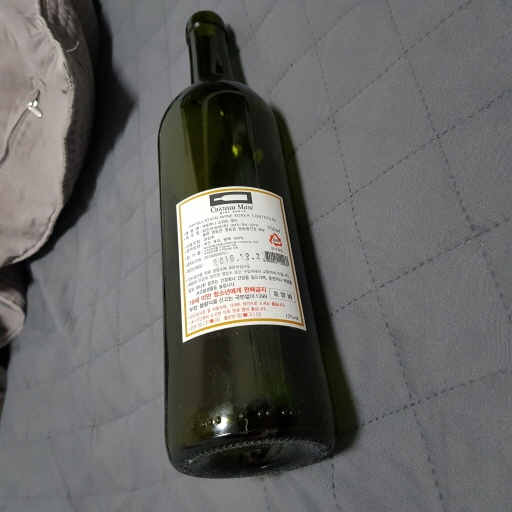Glass_2: (154, 7, 345, 483)
